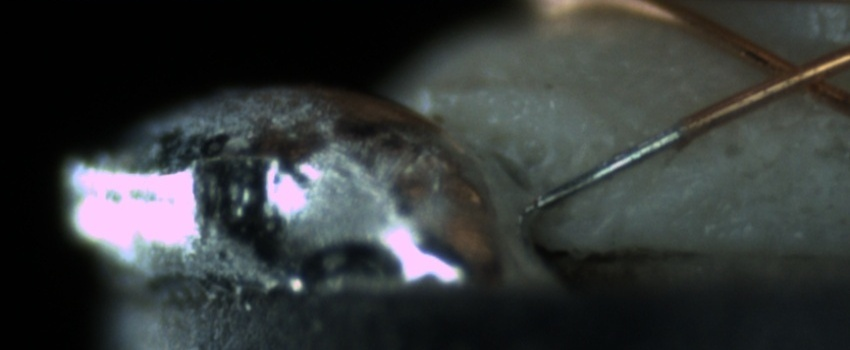CL: (741, 40, 847, 106)
TS: (536, 127, 684, 208)
